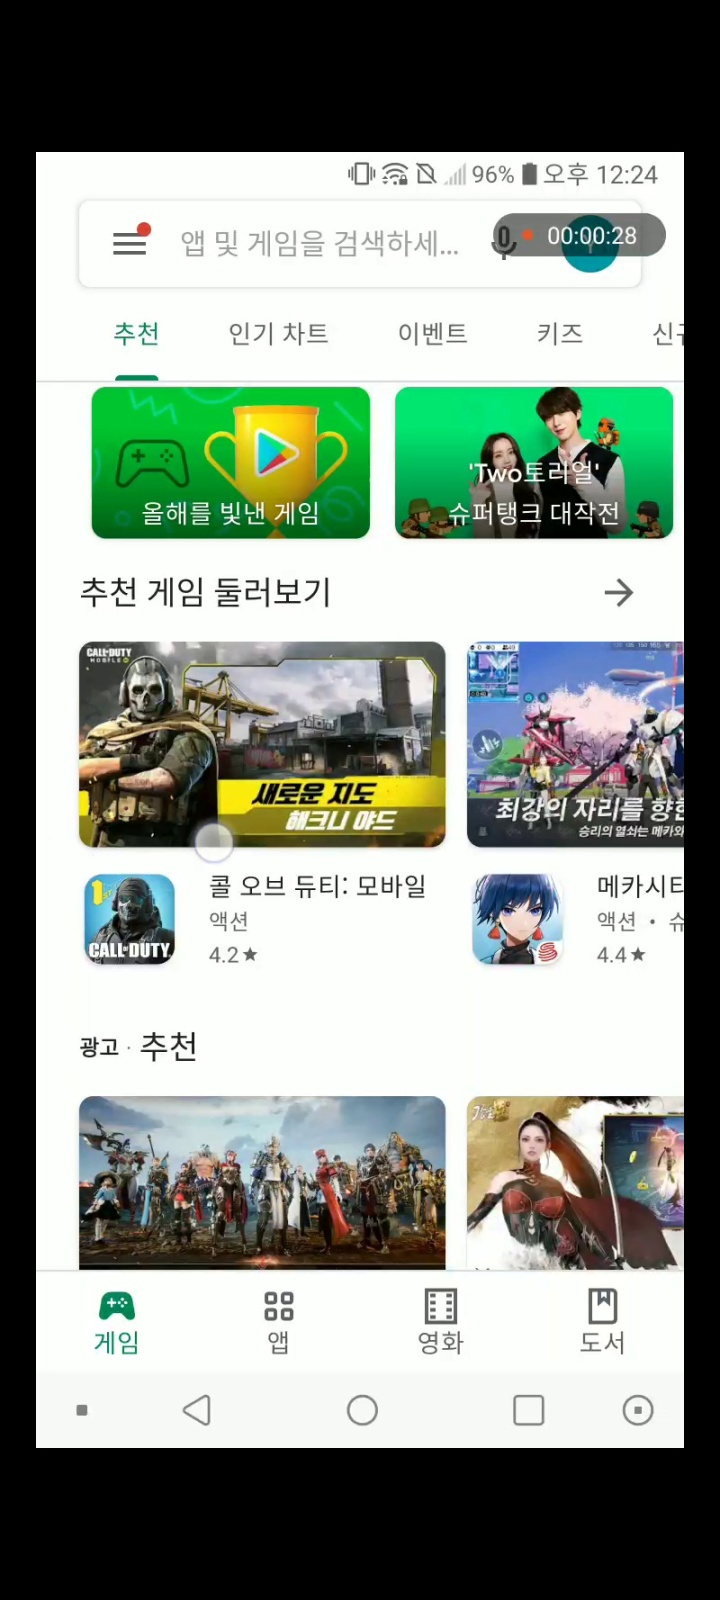Cursor: (193, 821, 238, 866)
